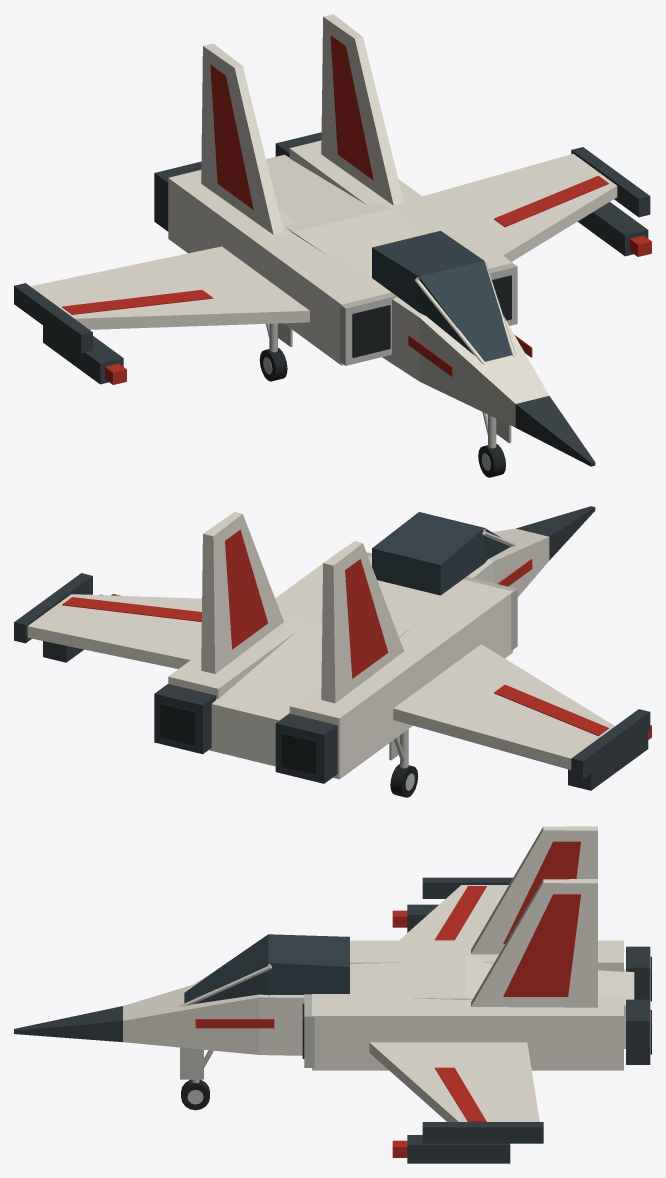
3 renders of one model, top to bottom at view 1: azimuth 30°, elevation 25°; view 2: azimuth 150°, elevation 25°; view 3: azimuth 270°, elevation 25°, orthographic. The views are drawn at different scales.
Visible parts, largest first — view 1: jet-b-fleet-armor, jet-b-fleet-machine, jet-b-fleet-red, jet-b-fleet-glass, jet-b-fleet-rubber, jet-b-fleet-edge; view 2: jet-b-fleet-armor, jet-b-fleet-machine, jet-b-fleet-red, jet-b-fleet-glass, jet-b-fleet-rubber, jet-b-fleet-edge, gear-wheel-left-0-0-fleet-rubber, landing-gear-left-fleet-edge; view 3: jet-b-fleet-armor, jet-b-fleet-machine, jet-b-fleet-red, jet-b-fleet-glass, landing-gear-nose-fleet-edge, jet-b-fleet-edge, gear-wheel-nose-0-0-fleet-rubber.
Part boxes in pixels (box(x1,y1,x2,y2)): jet-b-fleet-armor: box(30, 14, 617, 427); jet-b-fleet-machine: box(14, 132, 650, 466); jet-b-fleet-red: box(62, 35, 651, 384); jet-b-fleet-glass: box(372, 230, 511, 361); jet-b-fleet-rubber: box(352, 275, 511, 357); jet-b-fleet-edge: box(340, 263, 517, 365); jet-b-fleet-armor: box(27, 512, 614, 779); jet-b-fleet-machine: box(14, 506, 650, 790); jet-b-fleet-red: box(62, 529, 651, 739); jet-b-fleet-glass: box(372, 512, 510, 595); jet-b-fleet-rubber: box(160, 703, 316, 774); jet-b-fleet-edge: box(342, 547, 517, 650); gear-wheel-left-0-0-fleet-rubber: box(390, 764, 418, 797); landing-gear-left-fleet-edge: box(389, 729, 408, 768); jet-b-fleet-armor: box(123, 826, 634, 1121); jet-b-fleet-machine: box(14, 877, 650, 1163); jet-b-fleet-red: box(195, 841, 580, 1157); jet-b-fleet-glass: box(184, 934, 349, 1004); landing-gear-nose-fleet-edge: box(180, 1047, 213, 1083); jet-b-fleet-edge: box(304, 994, 314, 1067); gear-wheel-nose-0-0-fleet-rubber: box(181, 1079, 209, 1110).
Size of the model in its own units: 50.69 by 23.94 by 54.74.
